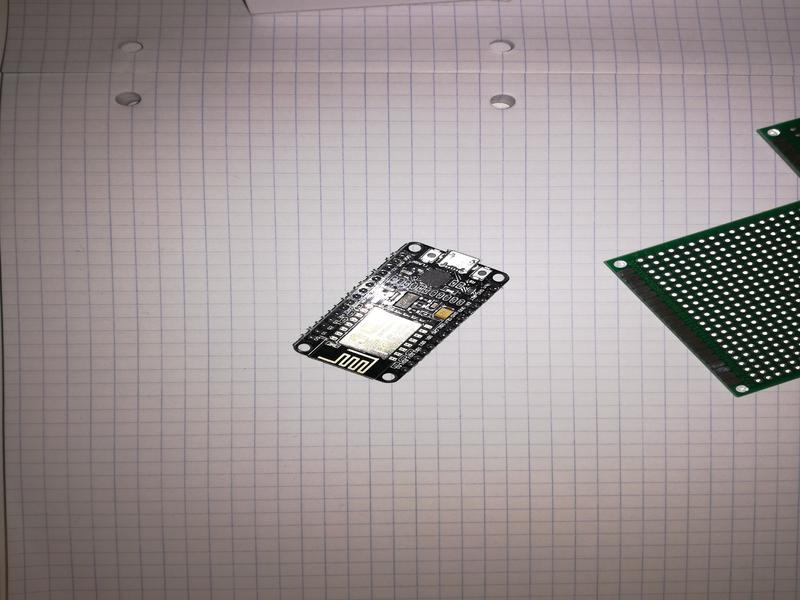ESP8266: (290, 239, 514, 387)
